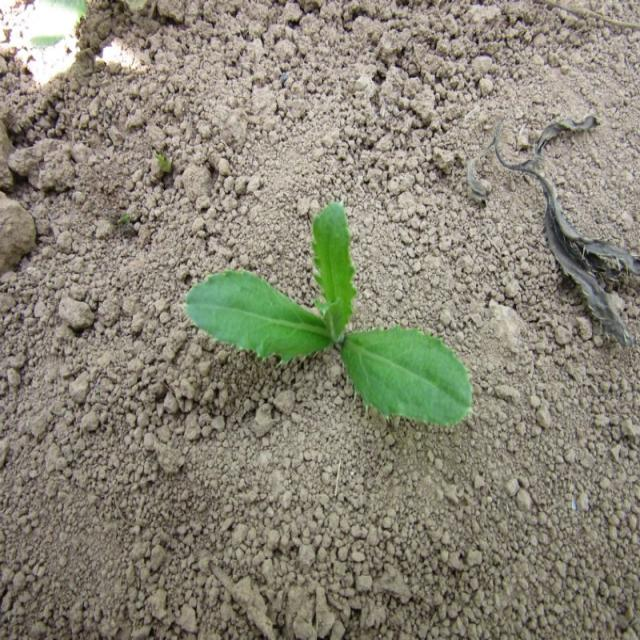field_thistle: (174, 191, 494, 436)
